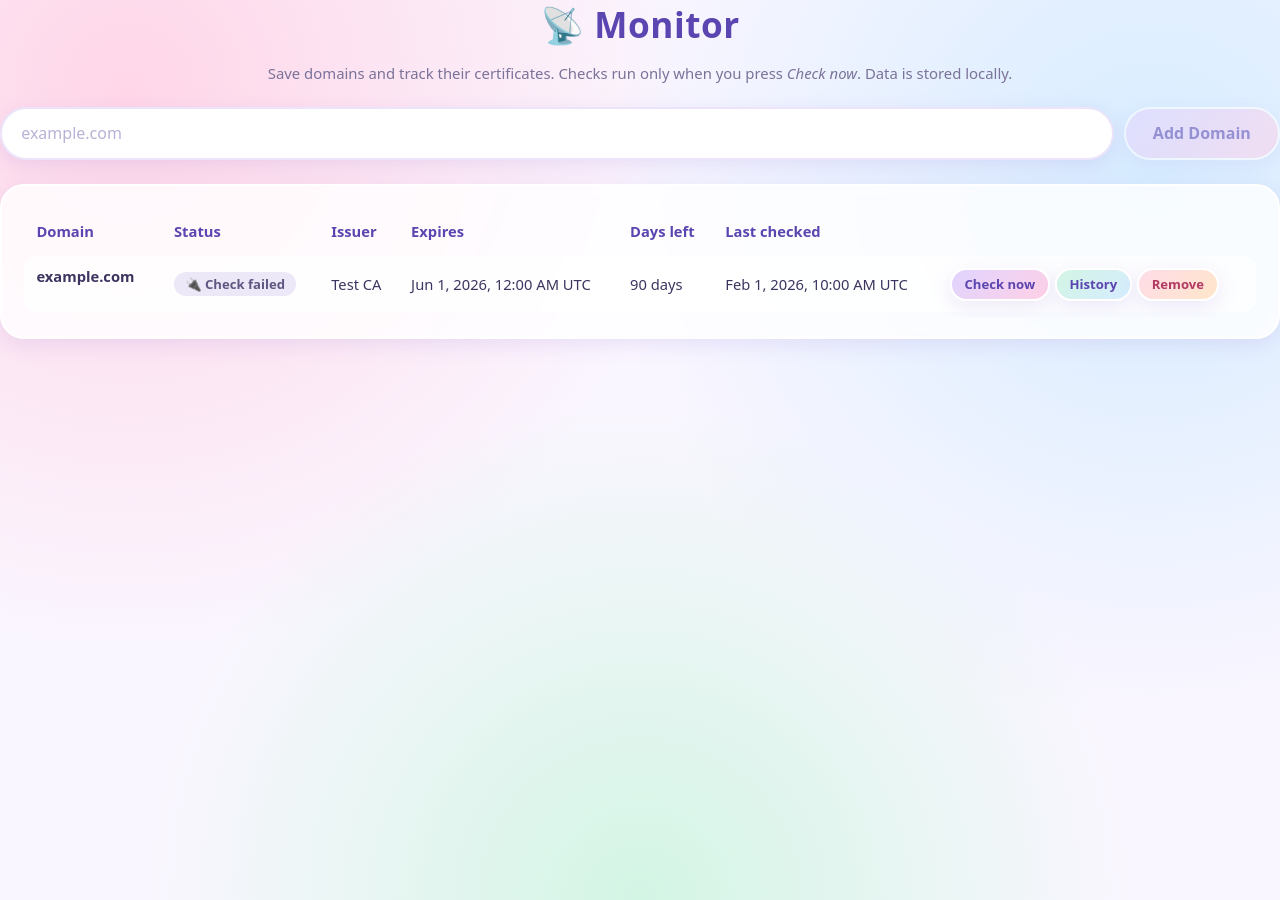
MonitorPage › shows certificate history with fingerprint changes and what changed
Later steps or results of the test are not shown.
Click the button with aria-label "view history for example.com": (1093, 284) [1055, 268, 1132, 301]
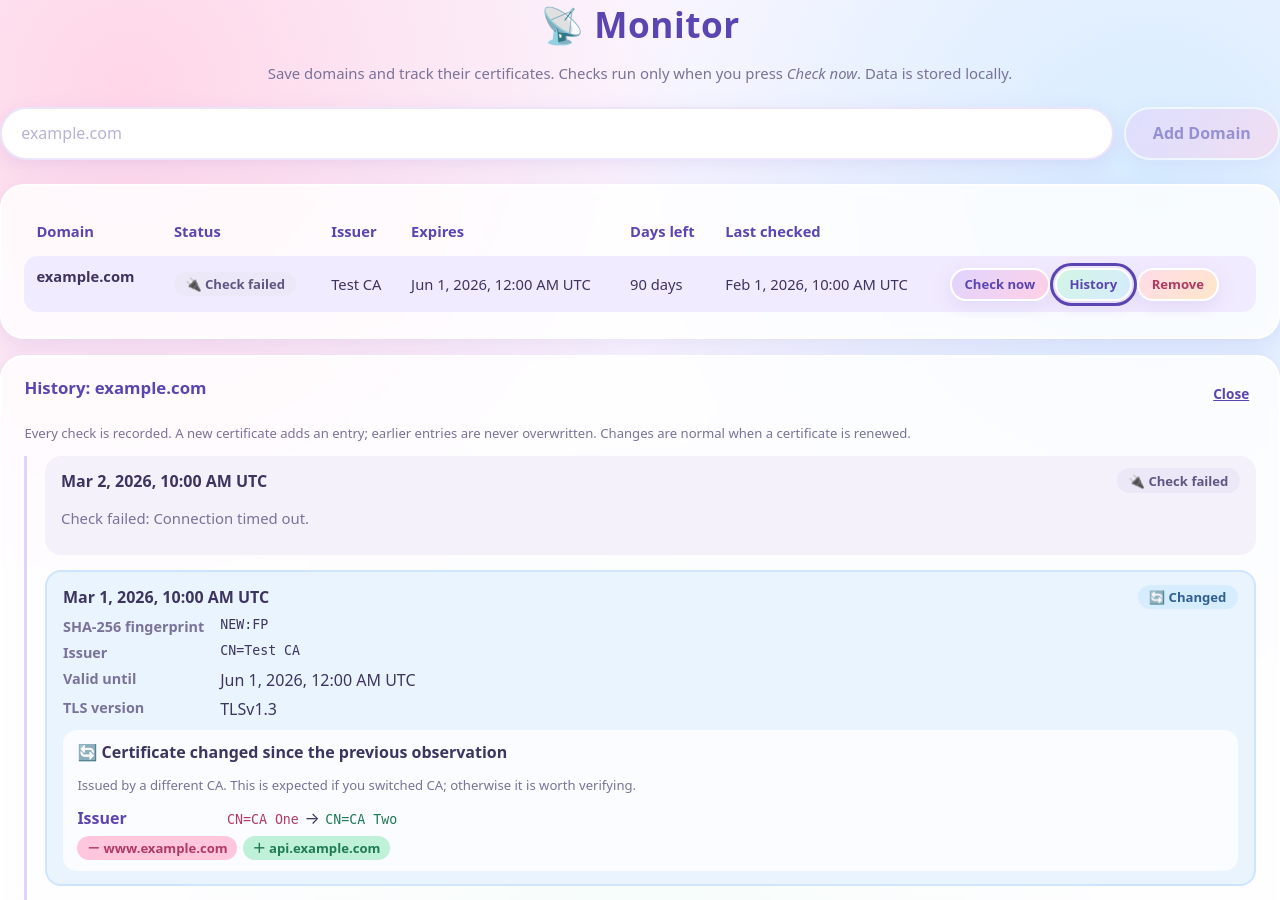
Expected: the text "Check failed: Connection timed out." is shown, [61, 508, 309, 528]
Expected: the text "CN=CA One" is shown, [227, 812, 299, 827]
Expected: the text "CN=CA Two" is shown, [325, 812, 397, 827]
